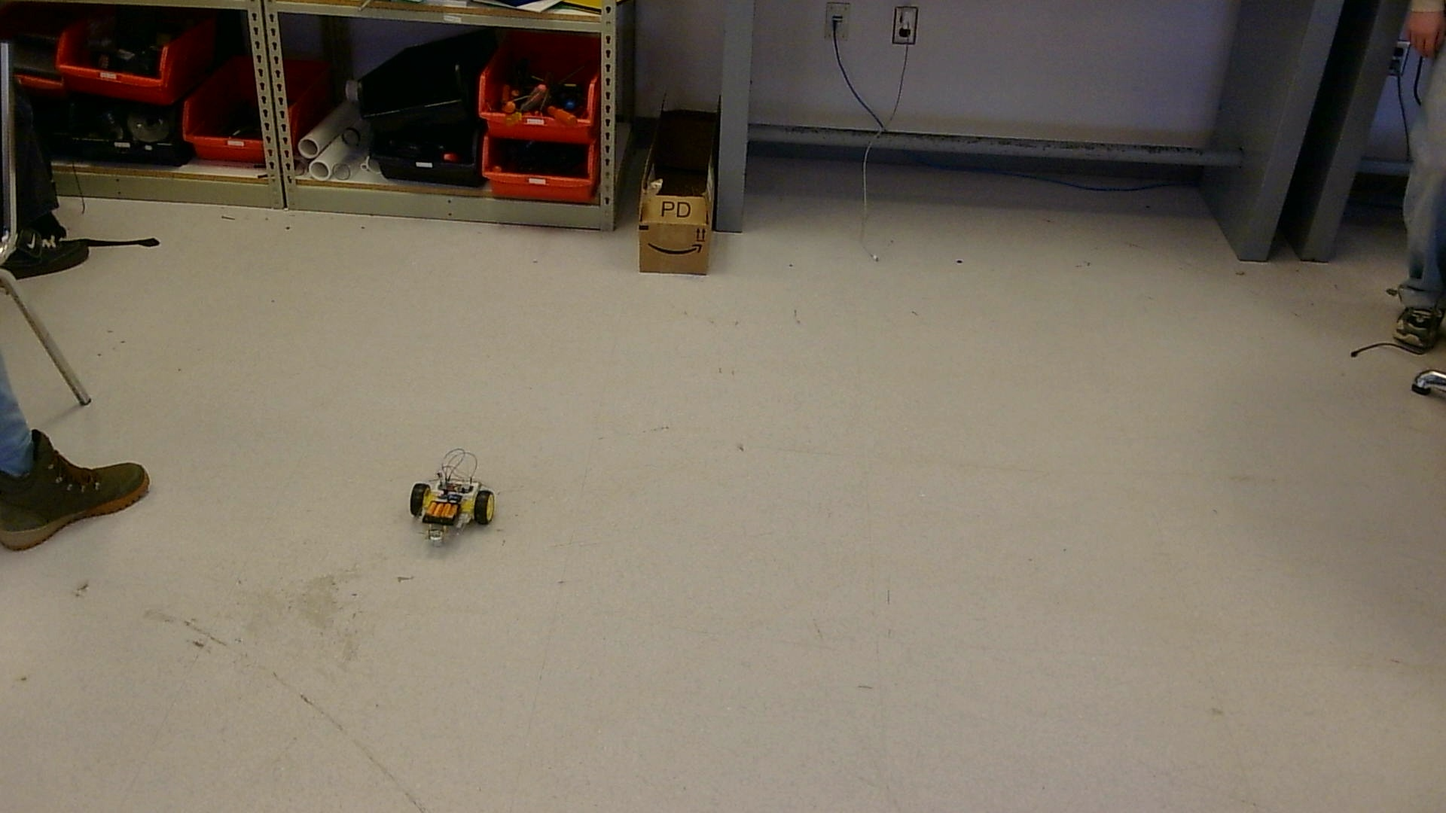robot: (409, 449, 495, 544)
